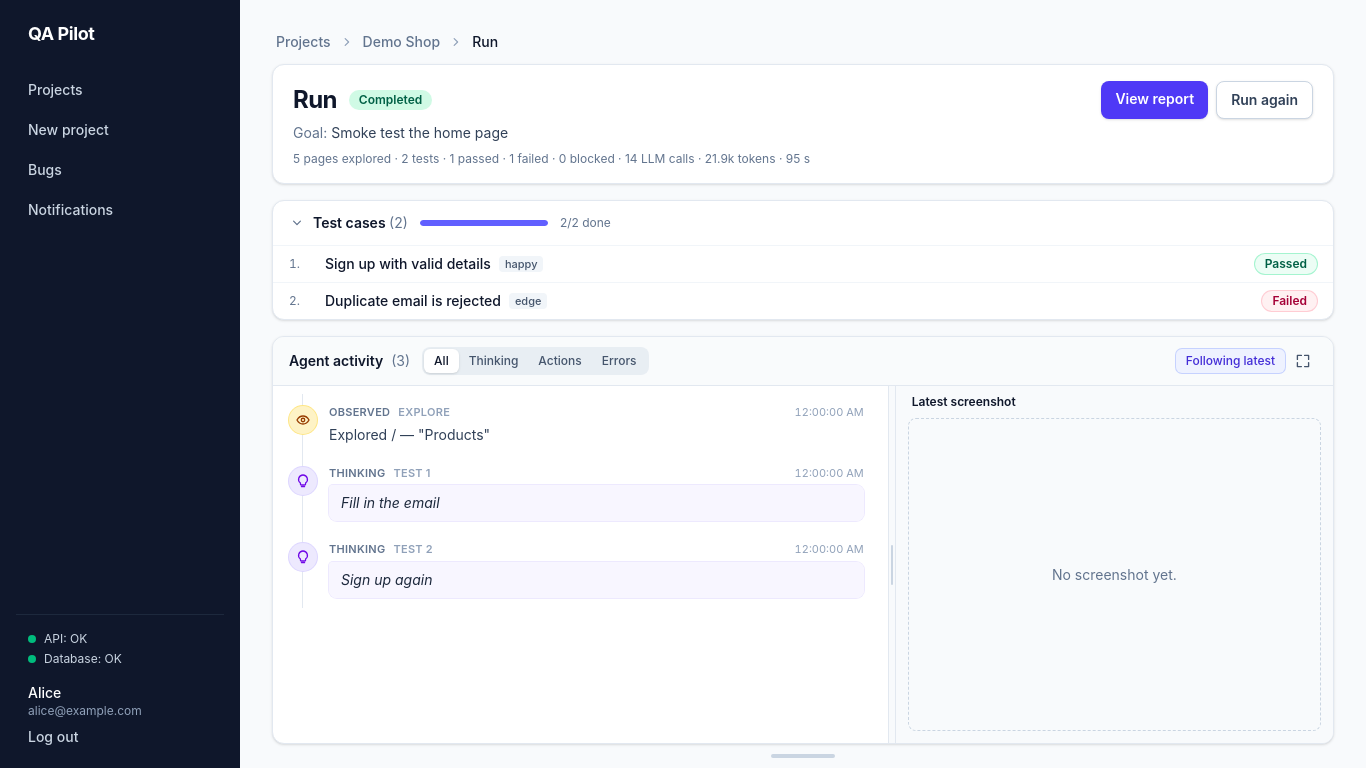
it: runs › shows test cases with live verdicts and filters the feed by test
Expected: the button "1. Sign up with valid details happy passed" is shown, [273,246,1333,282]
Expected: the text "5 pages explored · 2 tests · 1 passed · 1 failed · 0 blocked · 14 LLM calls · 21.9k tokens · 95 s" is shown, [293,151,810,166]
Click the button "2. Duplicate email is rejected edge failed" at point(413, 300), box [273,283,1333,319]
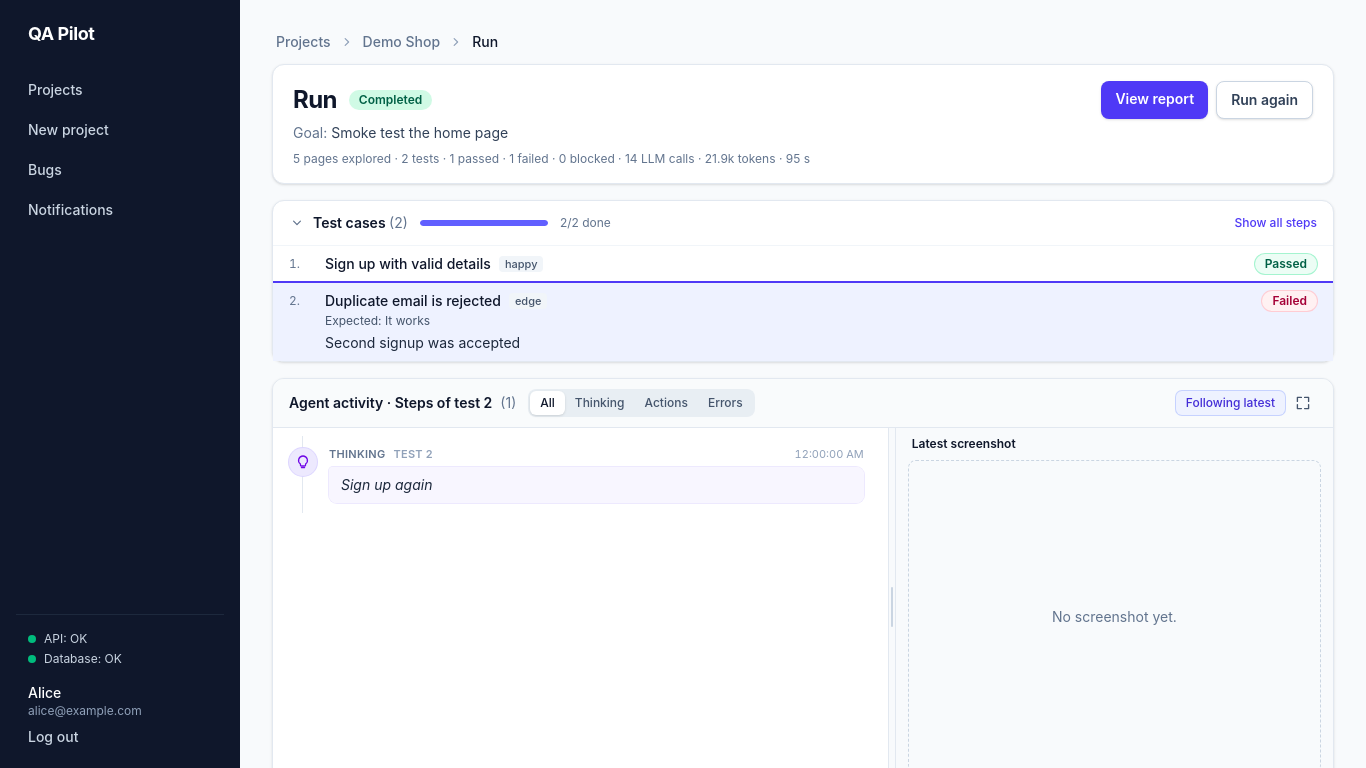
Now the button "Duplicate email is rejected" shows "Second signup was accepted", box [273,283,1333,361]
Now the heading "Agent activity · Steps of test 2 (1)" is shown, box [289,393,516,413]
Now the text "Fill in the email" is gone
Click the button "Show all steps" at point(1276, 223), box [1234,215,1317,231]
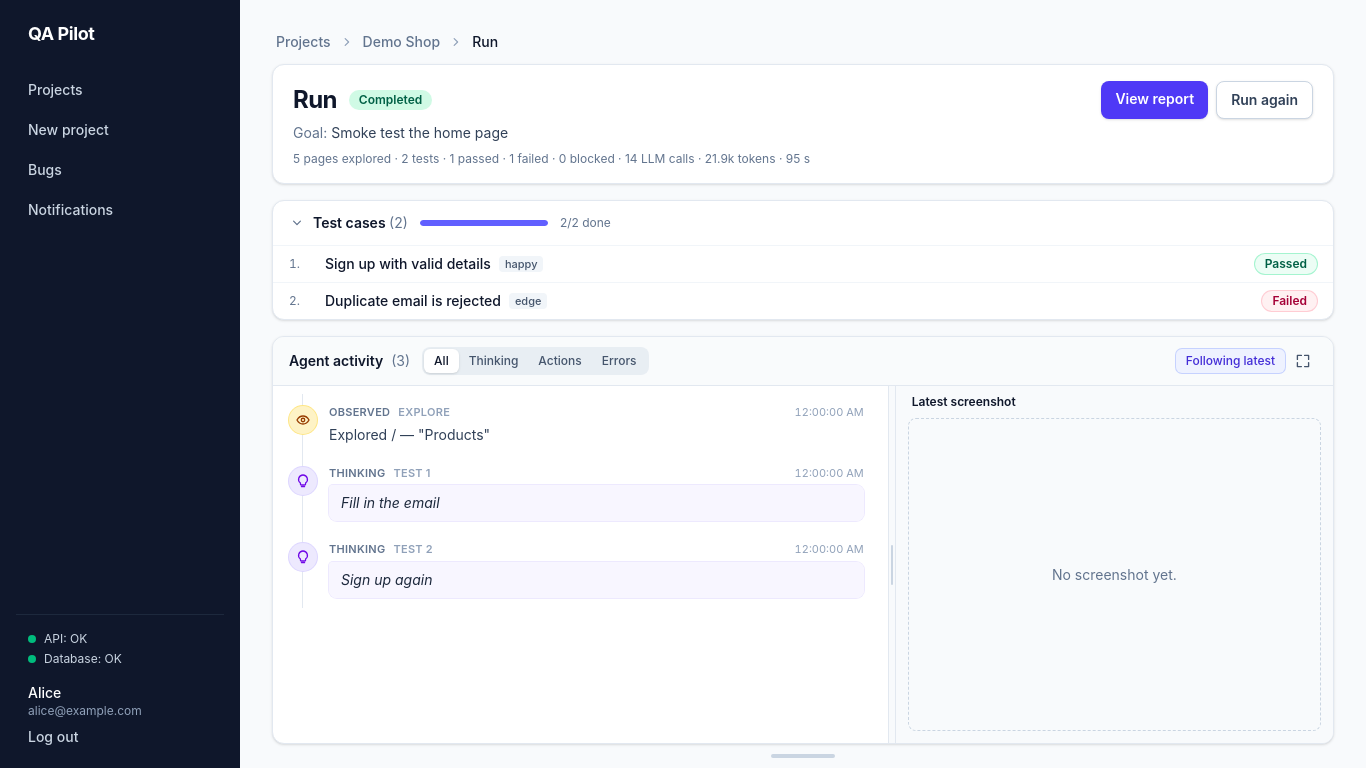
Now the text "Fill in the email" is shown, box [329,485,864,521]
